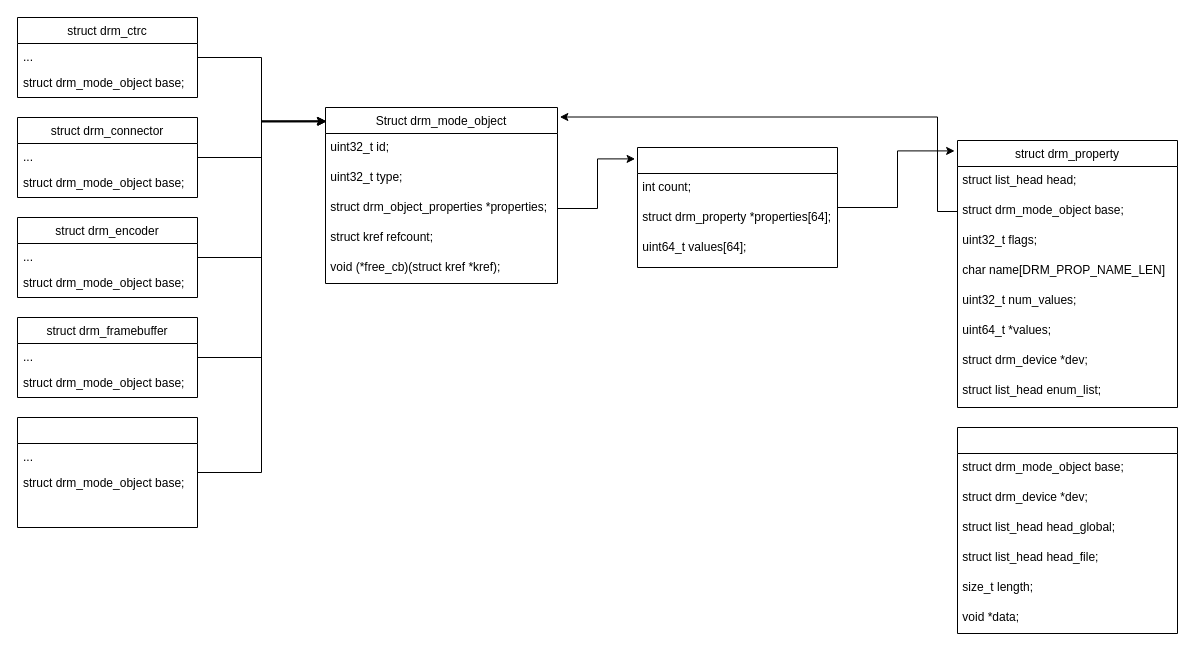
This 1195x651 diagram has some shape labels left out. The shapes that lost their labels are listed below. From the top down, each one's box as (x1, y1, x2, y2) in pixels, then its label:
(636, 146, 838, 268): struct drm_object_properties
(16, 416, 198, 528): struct drm_plane
(956, 426, 1178, 634): struct drm_property_blob
